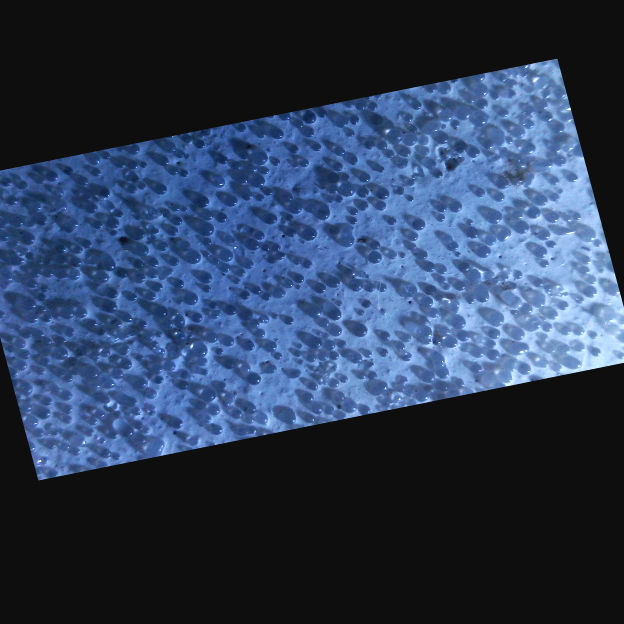GrassBeadSeg: (46, 154, 551, 423), (26, 203, 447, 463), (102, 168, 546, 390), (65, 127, 517, 336), (61, 214, 495, 412), (0, 231, 622, 367), (156, 133, 503, 376), (154, 159, 553, 351), (84, 210, 602, 356), (85, 203, 559, 358), (205, 126, 526, 342), (75, 159, 509, 318), (0, 297, 623, 407), (216, 191, 507, 426), (60, 172, 524, 314), (59, 225, 418, 400), (133, 188, 498, 349), (52, 192, 304, 424), (74, 229, 552, 350), (103, 227, 481, 378), (93, 222, 357, 414), (201, 200, 450, 402), (180, 259, 551, 390), (206, 214, 447, 415), (154, 216, 486, 358), (23, 233, 354, 373), (16, 219, 474, 317), (213, 214, 623, 323), (107, 259, 576, 354), (244, 278, 546, 424), (12, 216, 223, 415), (91, 220, 341, 387), (163, 173, 371, 369), (312, 196, 547, 360), (329, 172, 528, 353), (179, 118, 287, 445), (224, 227, 475, 366), (102, 259, 366, 389), (84, 273, 305, 421), (264, 246, 544, 359), (273, 251, 513, 382), (153, 311, 506, 393), (243, 201, 468, 328), (208, 219, 469, 325), (171, 331, 471, 422), (106, 260, 256, 438), (165, 205, 289, 418), (169, 228, 298, 427), (15, 264, 251, 370), (329, 132, 451, 336), (34, 268, 480, 322), (202, 285, 438, 384), (211, 363, 533, 435), (68, 229, 509, 280), (198, 294, 510, 365), (368, 255, 519, 387), (201, 188, 390, 292), (153, 328, 503, 384), (144, 238, 263, 398), (301, 206, 398, 402), (146, 306, 321, 410), (426, 284, 582, 400), (199, 187, 373, 283), (61, 211, 215, 318), (108, 301, 458, 348), (496, 178, 586, 351), (246, 208, 331, 384), (80, 230, 266, 307), (518, 194, 599, 368), (200, 278, 294, 423), (271, 287, 527, 339), (240, 150, 441, 216), (194, 339, 363, 412), (54, 188, 115, 388), (193, 330, 323, 423), (297, 282, 417, 366), (25, 278, 242, 323), (131, 290, 249, 372), (4, 194, 93, 299), (420, 87, 567, 145), (137, 318, 329, 360), (224, 247, 270, 421), (8, 184, 68, 300), (273, 313, 368, 384), (378, 84, 451, 172), (85, 317, 186, 379), (262, 292, 314, 402), (334, 102, 418, 169), (489, 239, 599, 289), (437, 328, 545, 375), (0, 186, 54, 277), (443, 234, 513, 304), (235, 126, 315, 187), (380, 297, 435, 383), (98, 150, 186, 201), (362, 282, 433, 343), (66, 192, 188, 227), (11, 247, 174, 273), (0, 200, 67, 263), (521, 100, 567, 187), (198, 368, 269, 424), (171, 194, 295, 226), (186, 291, 252, 350), (279, 111, 404, 142), (13, 239, 68, 309), (78, 155, 188, 189), (514, 221, 603, 263), (247, 119, 322, 168), (322, 359, 388, 414), (111, 160, 159, 235), (214, 144, 299, 186), (371, 354, 445, 402), (261, 192, 293, 301), (193, 312, 251, 370), (296, 355, 346, 419), (64, 320, 95, 423), (368, 240, 548, 257), (336, 105, 383, 170), (155, 347, 224, 390), (417, 370, 513, 400), (253, 315, 337, 349), (421, 249, 451, 344), (97, 250, 197, 278), (294, 108, 341, 167), (120, 132, 204, 165), (114, 217, 211, 245), (314, 201, 464, 219), (23, 348, 116, 375), (306, 384, 371, 422), (219, 123, 278, 164), (415, 241, 480, 276), (402, 108, 450, 155), (471, 329, 522, 373), (268, 371, 345, 400), (201, 272, 231, 346), (441, 246, 491, 290), (407, 142, 443, 201), (492, 93, 535, 142), (239, 309, 282, 358), (578, 296, 623, 342), (274, 313, 329, 350), (246, 308, 277, 372), (160, 134, 228, 163), (425, 141, 480, 176), (514, 156, 578, 185), (93, 356, 133, 402), (529, 177, 569, 222), (527, 106, 565, 153), (326, 173, 359, 225), (515, 221, 596, 242), (399, 252, 437, 295), (3, 166, 74, 189), (91, 145, 140, 176), (384, 330, 430, 361), (369, 231, 419, 259), (262, 235, 355, 250), (405, 83, 442, 120), (12, 247, 39, 297), (162, 184, 250, 199), (319, 351, 366, 378), (102, 314, 133, 354), (430, 261, 482, 284), (149, 256, 205, 277), (493, 91, 536, 117), (53, 353, 132, 367), (116, 185, 150, 217), (201, 222, 228, 262), (538, 209, 587, 231), (177, 251, 210, 282), (96, 408, 142, 430), (243, 151, 264, 199), (164, 295, 194, 326), (99, 421, 140, 443), (294, 349, 338, 369), (83, 217, 112, 247), (166, 196, 209, 216), (141, 322, 189, 339), (329, 307, 357, 335), (338, 99, 367, 126), (387, 376, 414, 405), (26, 335, 50, 366), (38, 436, 57, 475), (79, 259, 109, 283), (23, 329, 67, 345), (64, 427, 94, 450), (28, 418, 51, 447), (542, 335, 561, 370), (111, 272, 138, 296), (484, 138, 513, 160), (53, 447, 75, 476), (213, 238, 237, 264), (473, 89, 490, 125), (198, 304, 230, 322), (33, 368, 45, 416), (535, 315, 615, 322), (350, 350, 372, 375), (124, 258, 179, 268), (23, 383, 43, 410), (159, 240, 180, 265), (73, 239, 92, 266), (88, 435, 111, 457), (216, 212, 234, 240), (133, 225, 178, 236), (43, 312, 55, 351), (156, 184, 171, 215), (35, 428, 56, 449), (99, 440, 122, 459), (446, 107, 479, 120), (118, 268, 145, 283), (556, 344, 570, 371), (142, 432, 164, 448), (157, 225, 171, 250), (202, 195, 237, 205), (21, 371, 38, 391), (244, 341, 255, 371), (520, 296, 545, 309), (110, 288, 137, 300), (607, 320, 622, 341), (17, 338, 49, 347), (215, 248, 233, 264), (92, 321, 114, 334), (231, 293, 250, 308), (541, 332, 598, 337), (138, 319, 173, 327), (61, 441, 81, 455), (113, 358, 125, 379), (561, 296, 580, 309), (90, 409, 106, 424), (38, 335, 68, 343), (199, 226, 213, 242), (547, 343, 569, 353), (131, 368, 137, 404), (39, 293, 47, 319), (423, 261, 432, 284), (243, 191, 272, 198), (259, 186, 273, 200), (37, 331, 52, 344), (539, 351, 551, 367), (130, 292, 156, 299), (186, 252, 201, 264), (222, 195, 231, 215), (123, 426, 140, 436), (156, 281, 184, 287), (547, 326, 571, 333), (488, 270, 499, 284), (92, 347, 111, 355), (565, 326, 583, 334), (137, 422, 151, 432), (149, 284, 164, 293), (224, 359, 237, 368), (527, 304, 534, 320), (17, 342, 23, 358), (29, 417, 39, 426), (135, 228, 144, 238), (578, 329, 595, 334), (44, 396, 53, 405), (544, 322, 553, 331), (136, 436, 146, 444), (119, 270, 129, 277), (226, 309, 237, 315), (45, 404, 50, 417), (535, 320, 542, 329), (143, 245, 149, 255), (108, 222, 118, 228), (216, 217, 228, 222), (121, 360, 128, 368), (167, 227, 174, 235), (581, 229, 585, 242), (198, 197, 203, 207), (192, 316, 199, 323), (443, 367, 450, 374), (539, 301, 547, 307), (156, 188, 165, 193), (138, 245, 142, 256), (53, 354, 63, 358), (529, 321, 534, 329), (56, 348, 69, 351), (521, 311, 530, 315), (65, 352, 70, 358), (439, 375, 449, 378), (39, 412, 44, 417), (510, 352, 515, 353)
